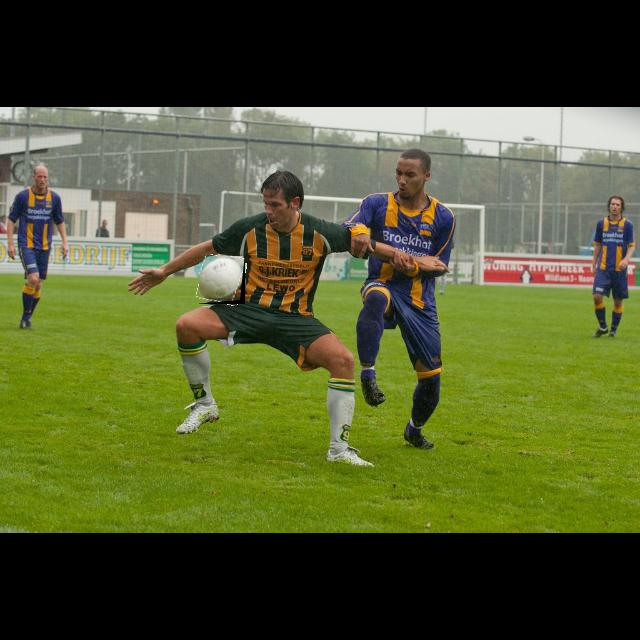Football: (199, 256, 245, 304)
